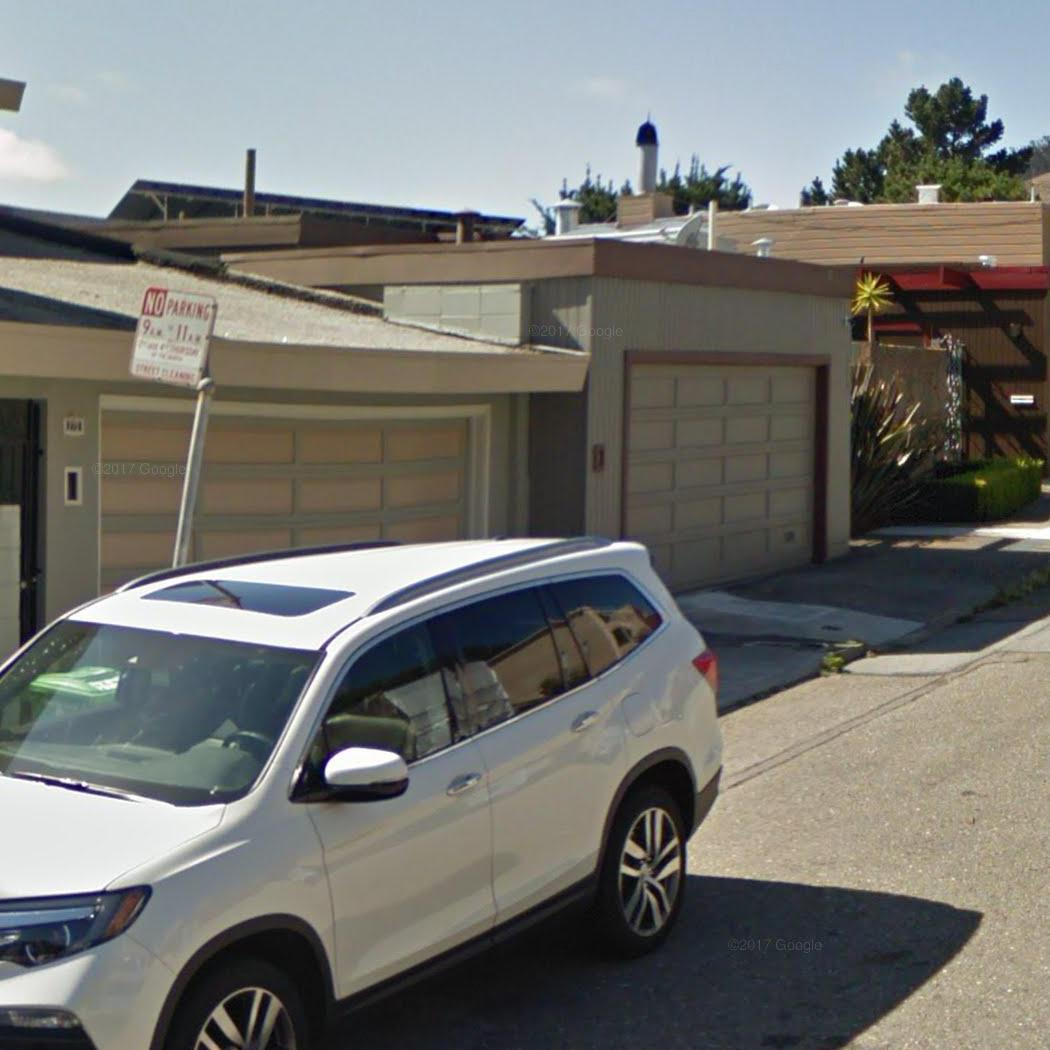No Parking: (126, 287, 218, 390)
